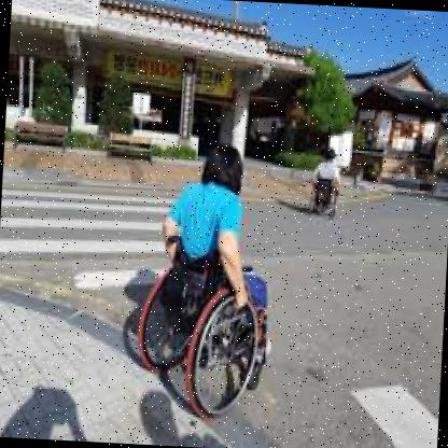wheel: (134, 144, 274, 419), (308, 143, 341, 220)
